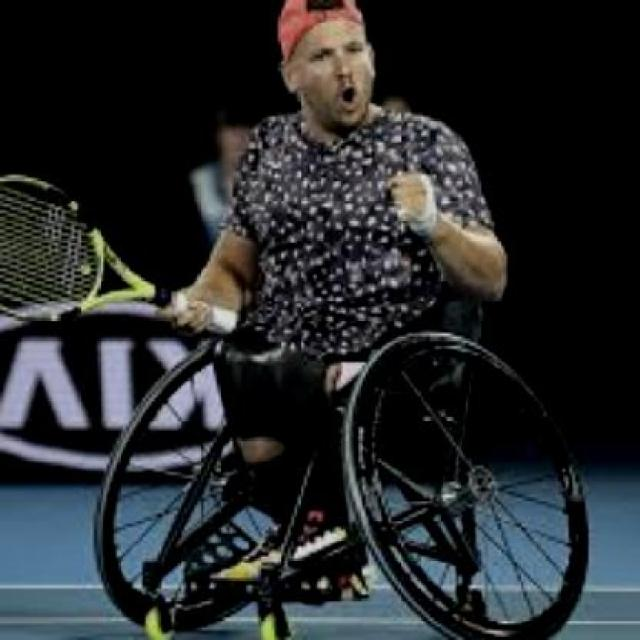wheelchairs: (95, 302, 597, 639)
